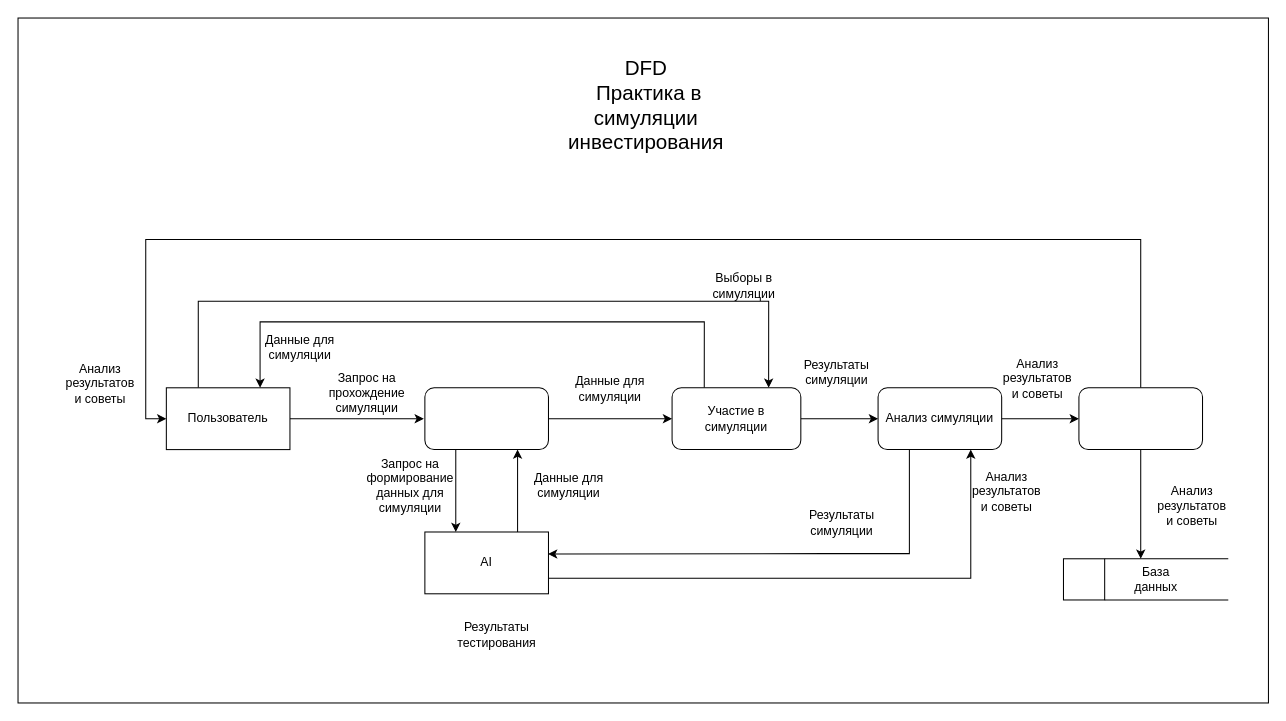
Some shapes in this 1286 by 721 pixel diagram are drawn without their labels. Here are the shapes that lost their labels. From the top down, the centre of each, then its label:
At (486,418): "Формирование данных для симуляции".
At (1140,418): "Внесение результатов тестирования в базу данных".
